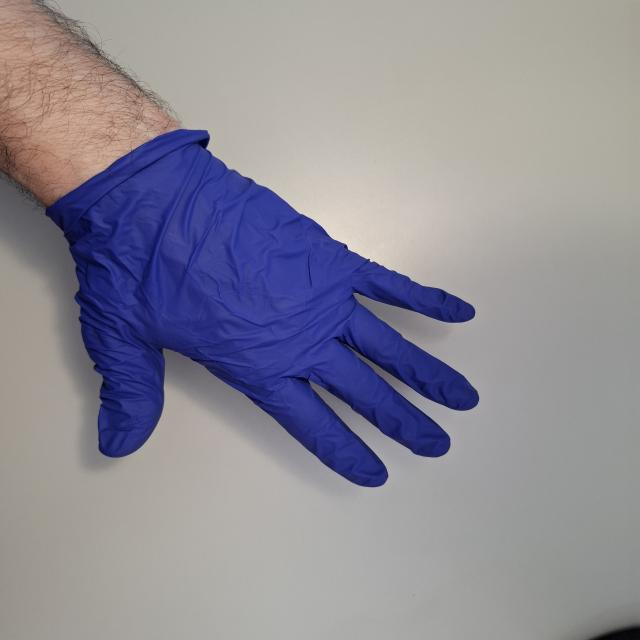glove_on: (31, 122, 488, 491)
